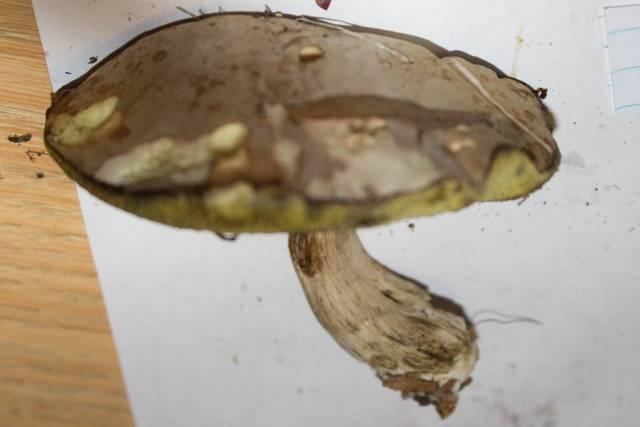edible_mushroom: (42, 8, 562, 419)
